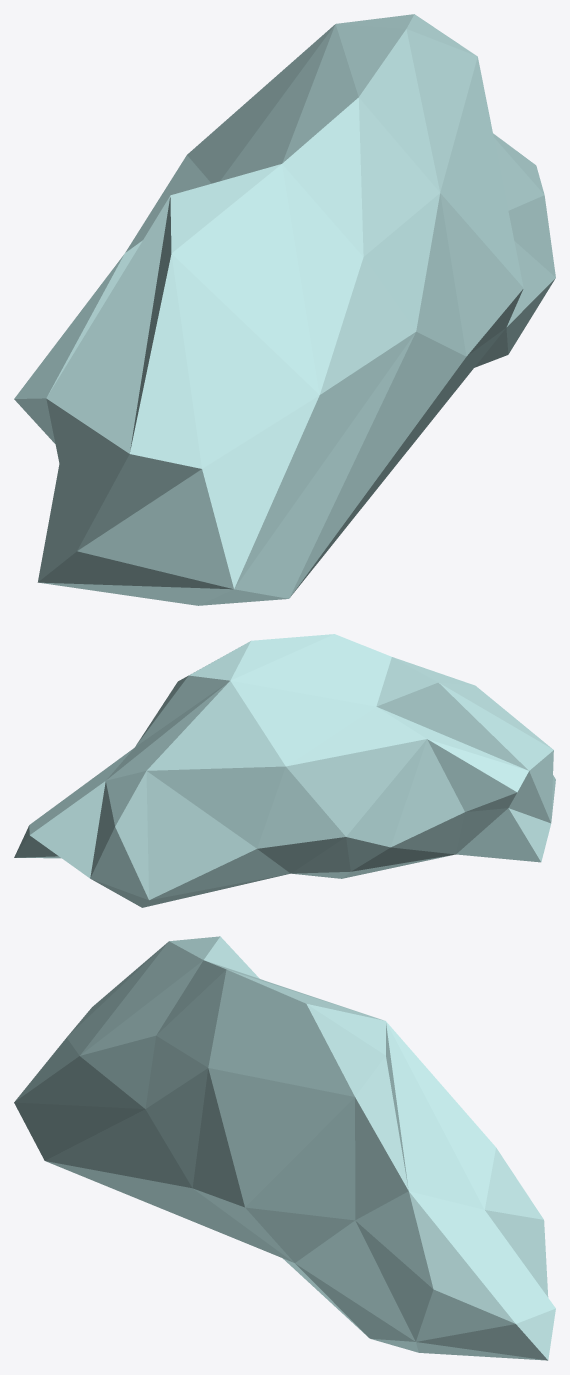
File: cloud-018.glb
3 renders of one model, top to bottom at view 1: azimuth 30°, elevation 25°; view 2: azimuth 150°, elevation 25°; view 3: azimuth 270°, elevation 25°, orthographic. The views are drawn at different scales.
Parts seen in each view (by area): view 1: cloud 10_41; view 2: cloud 10_41; view 3: cloud 10_41.
Part boxes in pixels (x1=…): cloud 10_41: x1=14, y1=14, x2=555, y2=605; cloud 10_41: x1=14, y1=634, x2=555, y2=907; cloud 10_41: x1=14, y1=936, x2=555, y2=1360.
Size of the model in its own units: 1.39 by 0.7197 by 1.22.
